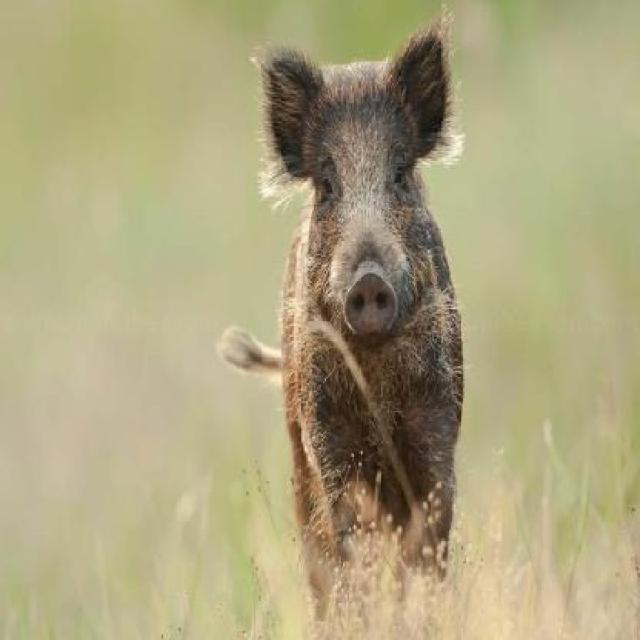wildboar: (215, 3, 468, 635)
